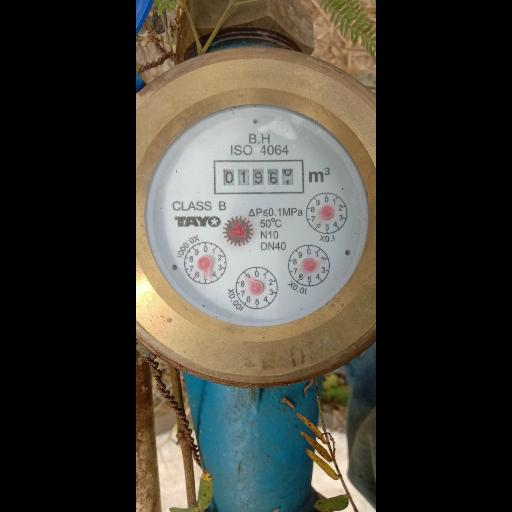0: (224, 169, 234, 185), (283, 169, 293, 185)
1: (240, 171, 249, 186)
6: (268, 169, 278, 185)
9: (254, 170, 264, 185)
border_water_meter_number: (214, 159, 305, 195)
